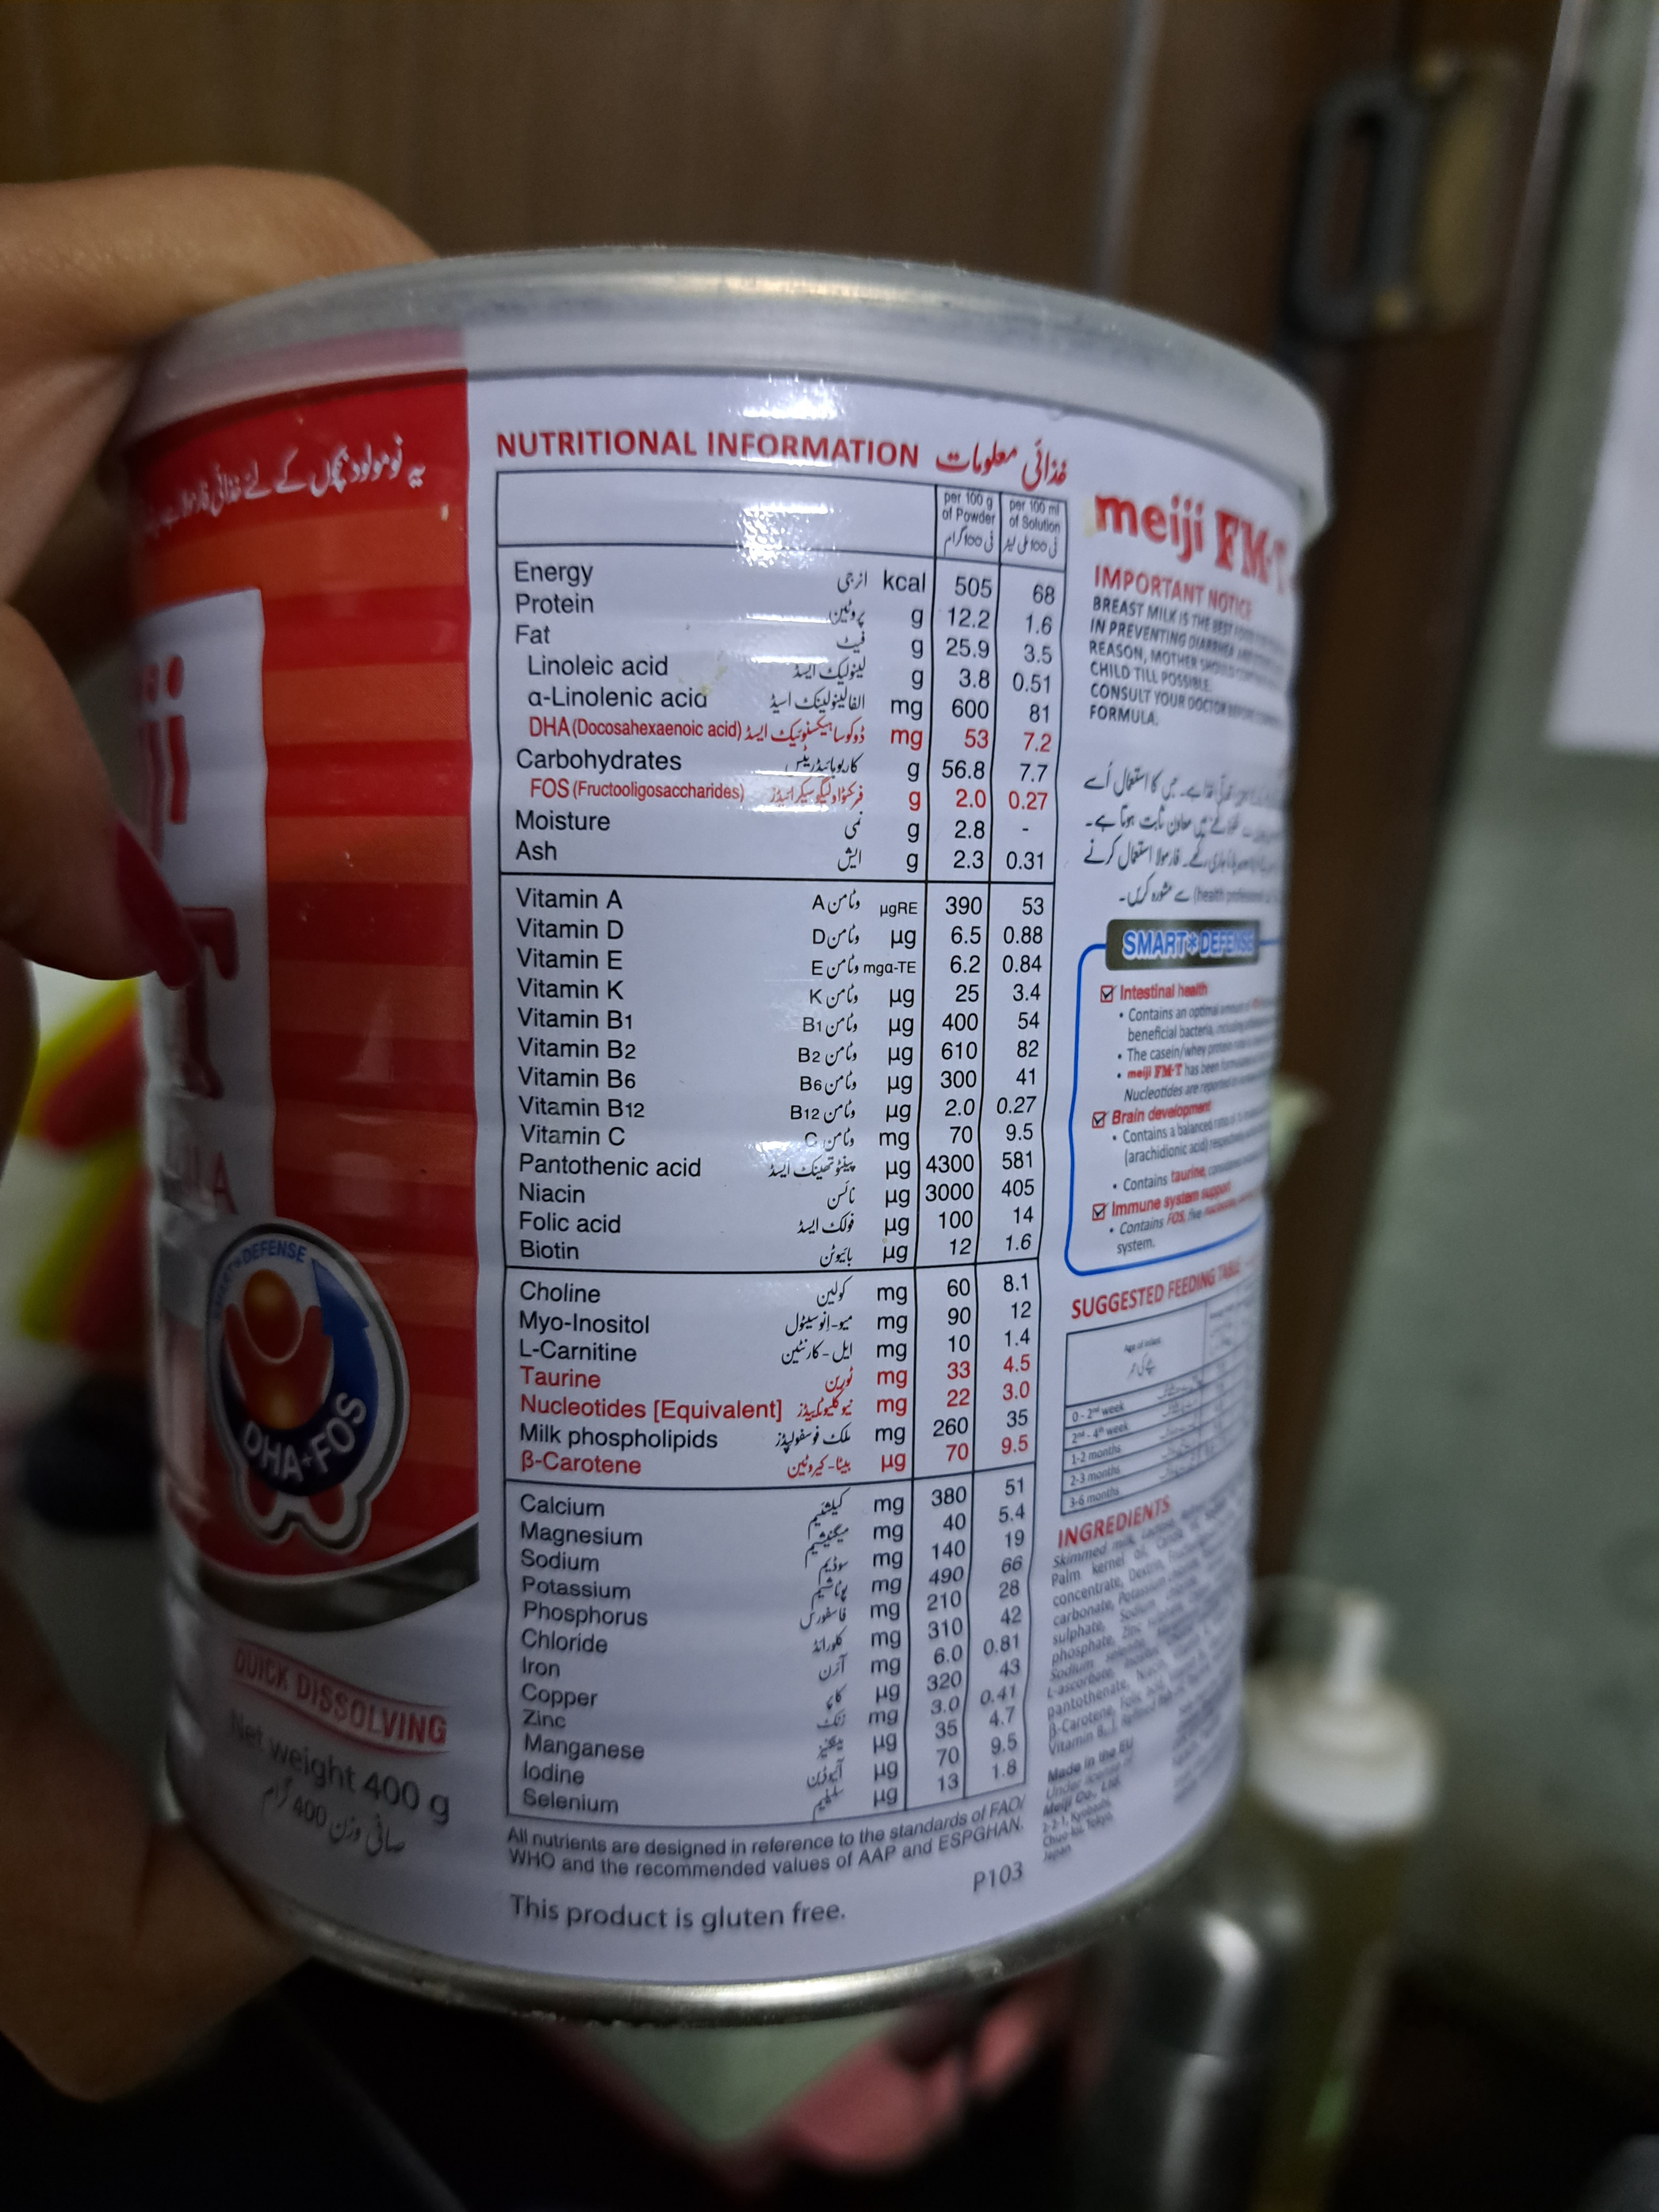table: (469, 406, 1058, 1851)
